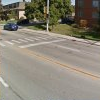crosswalk: (0, 35, 52, 46)
